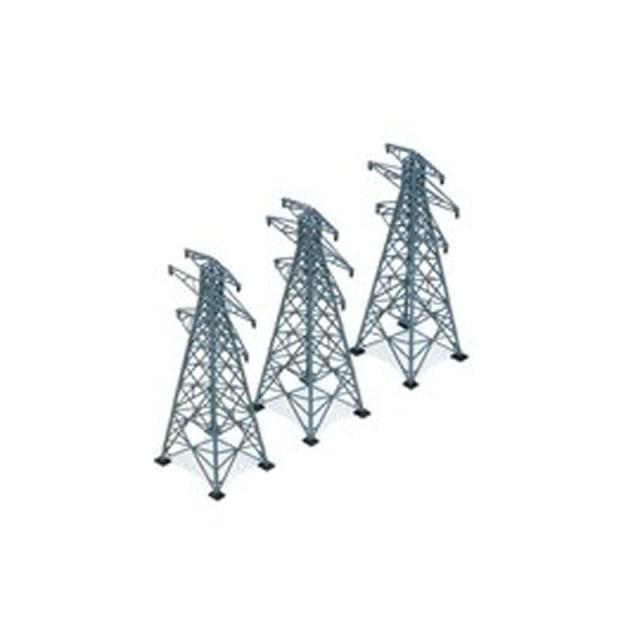non-critical vegetation: (346, 132, 476, 400), (139, 237, 267, 505), (251, 189, 375, 444)
